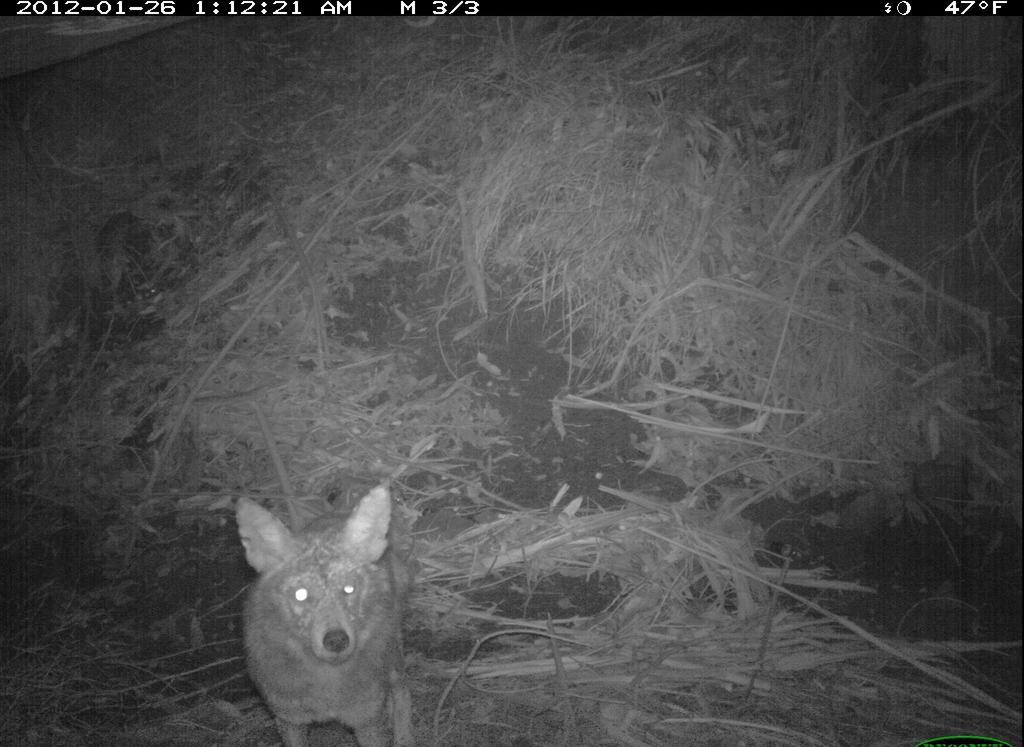coyote: (217, 428, 449, 740)
